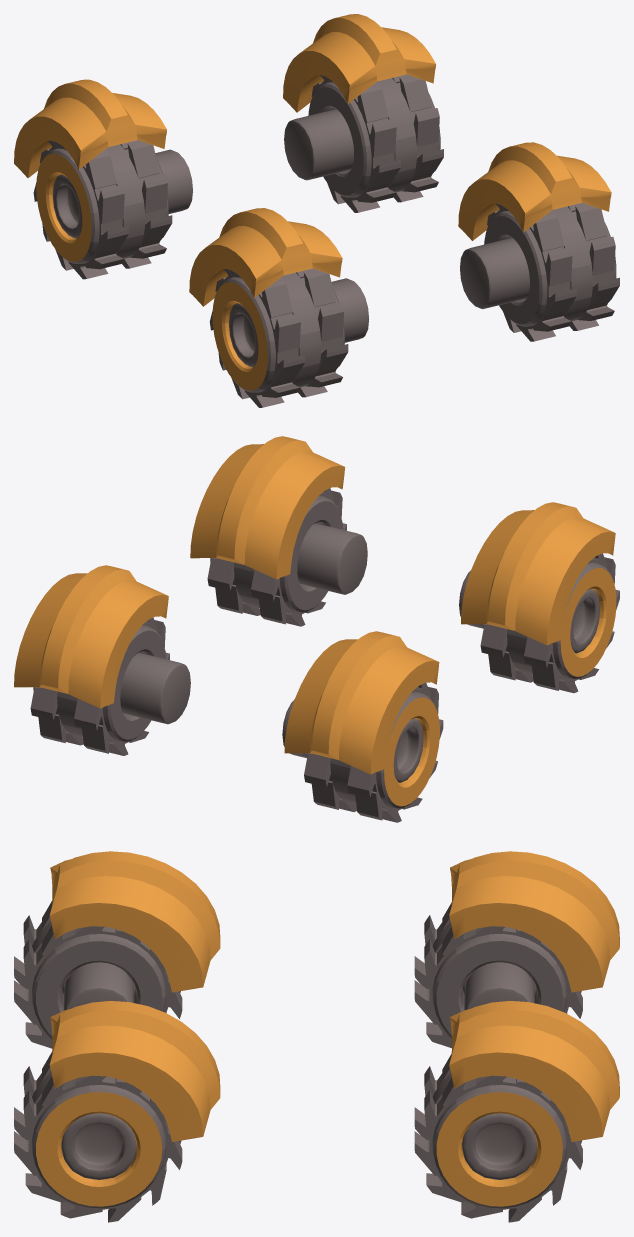
The model's file is WheelsLevel2.fbx.
3 views of the same model, one above another, from view 1: azimuth 30°, elevation 25°; view 2: azimuth 150°, elevation 25°; view 3: azimuth 270°, elevation 25° (orthographic). The views are drawn at different scales.
Visible parts, largest first — view 1: Cylinder.019, Cube.061, Cube.054, Cube.053, Cube.055; view 2: Cylinder.019, Cube.053, Cube.055, Cube.054, Cube.061; view 3: Cylinder.019, Cube.053, Cube.055, Cube.061, Cube.054.
Part boxes in pixels (x1,y1,x2,y2): Cylinder.019: (14, 14, 611, 306); Cube.061: (209, 268, 368, 407); Cube.054: (33, 140, 192, 279); Cube.053: (460, 203, 619, 341); Cube.055: (284, 74, 443, 212); Cylinder.019: (14, 436, 615, 774); Cube.053: (207, 488, 367, 626); Cube.055: (30, 617, 190, 755); Cube.054: (282, 682, 443, 822); Cube.061: (459, 553, 619, 693); Cylinder.019: (49, 851, 619, 1141); Cube.053: (14, 1051, 182, 1222); Cube.055: (414, 1054, 582, 1222); Cube.061: (14, 901, 182, 1048); Cube.054: (414, 903, 582, 1047).
Bounding box in the file's own units: 1027 × 478 × 1330.
